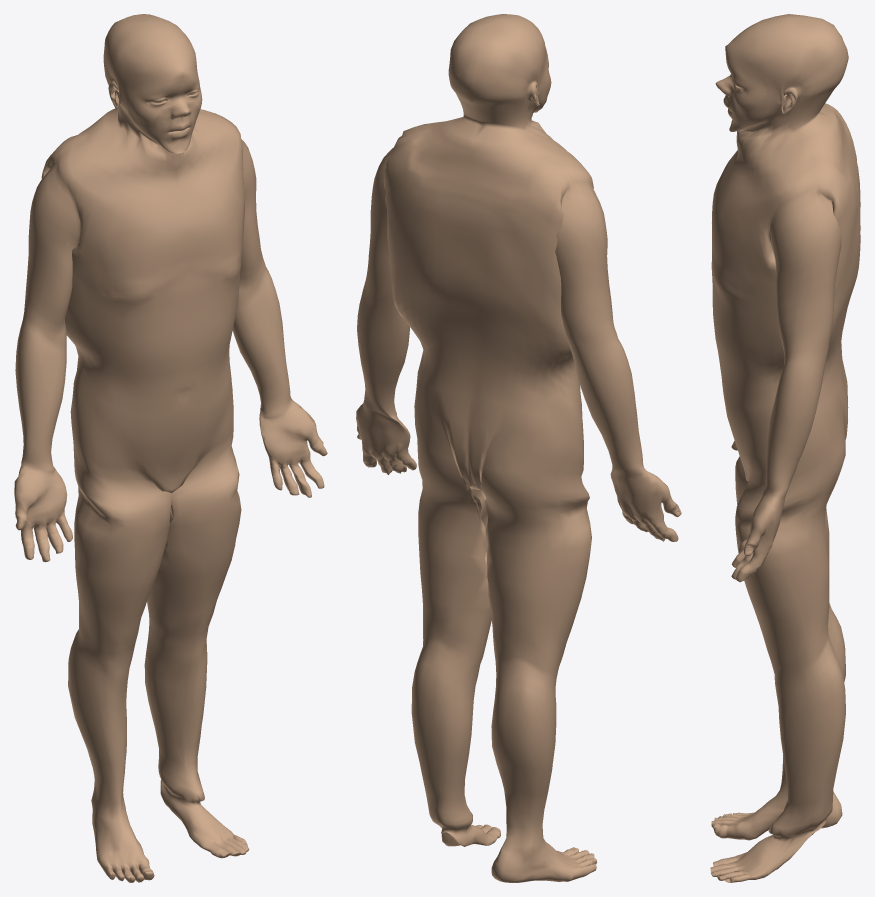
The model's file is skin-candidate-r55.glb.
The picture shows the model from 3 angles, left to right: view 1: azimuth 30°, elevation 25°; view 2: azimuth 150°, elevation 25°; view 3: azimuth 270°, elevation 25°; orthographic projection. The views are drawn at different scales.
Parts seen in each view (by area): view 1: MakeHuman_AT10_skin_fit_candidate_r55; view 2: MakeHuman_AT10_skin_fit_candidate_r55; view 3: MakeHuman_AT10_skin_fit_candidate_r55.
Part boxes in pixels (box(x1,y1,x2,y2)): MakeHuman_AT10_skin_fit_candidate_r55: box(14, 14, 327, 882); MakeHuman_AT10_skin_fit_candidate_r55: box(356, 14, 681, 882); MakeHuman_AT10_skin_fit_candidate_r55: box(710, 14, 860, 882).
Size of the model in its own units: 0.6758 by 1.72 by 0.28.
